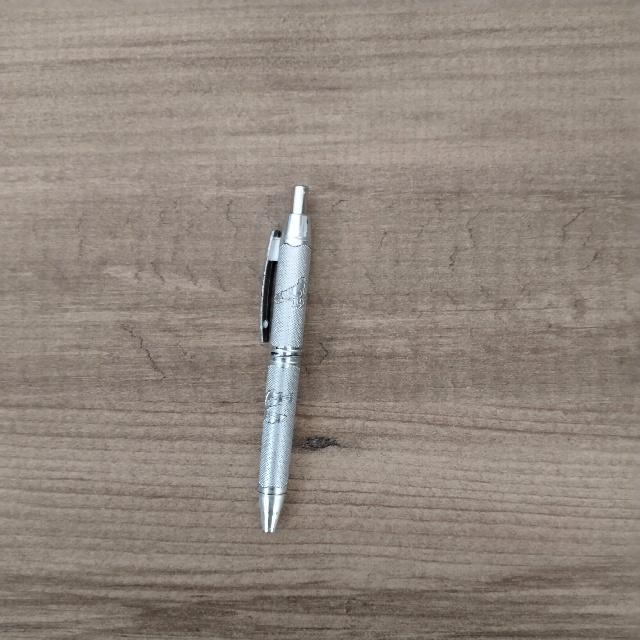signature pen: (259, 186, 310, 531)
